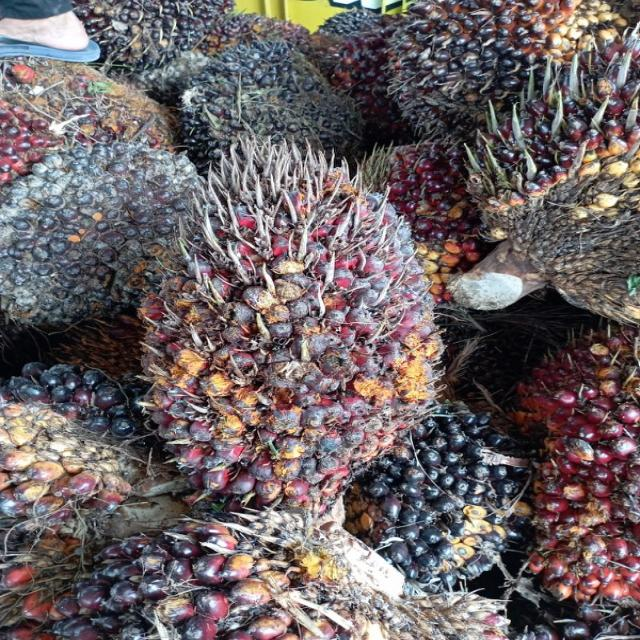fraksi 00: (339, 382, 544, 607)
